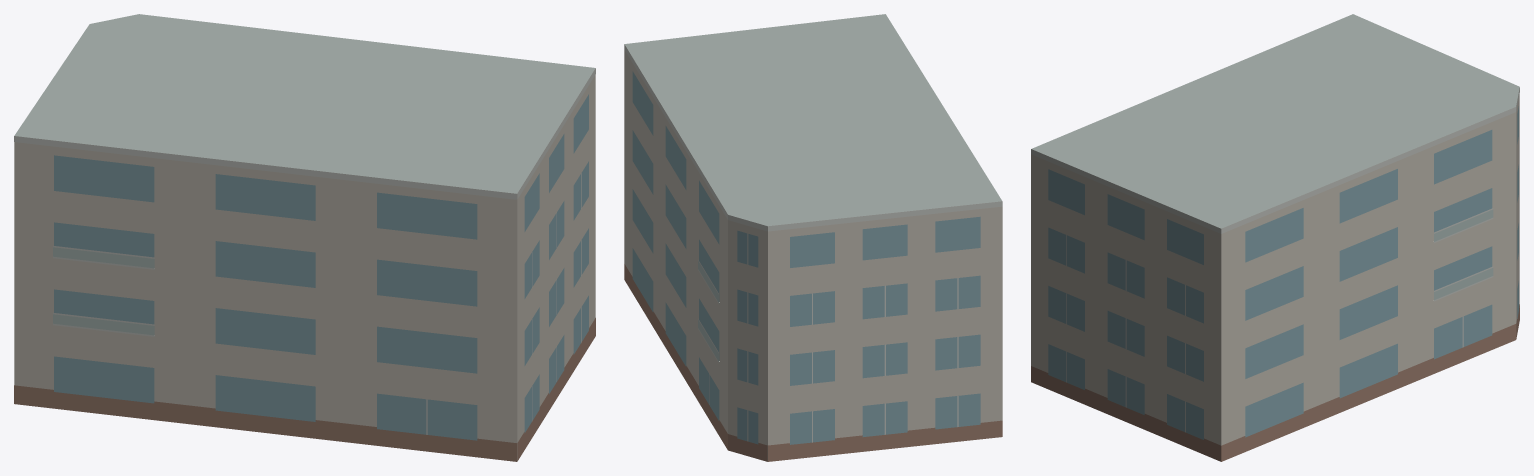
File: survey-upis-32590297.glb
3 renders of one model, left to right at view 1: azimuth 30°, elevation 25°; view 2: azimuth 150°, elevation 25°; view 3: azimuth 270°, elevation 25°, orthographic. The views are drawn at different scales.
Parts seen in each view (by area): view 1: survey-upis-32590297.tmp; view 2: survey-upis-32590297.tmp; view 3: survey-upis-32590297.tmp.
Boxes of the visible parts, box(x1,y1,x2,y2) form: survey-upis-32590297.tmp: box(14, 14, 595, 461); survey-upis-32590297.tmp: box(624, 14, 1002, 461); survey-upis-32590297.tmp: box(1031, 14, 1519, 461).
Size of the model in its own units: 21.34 by 10.8 by 20.52.
